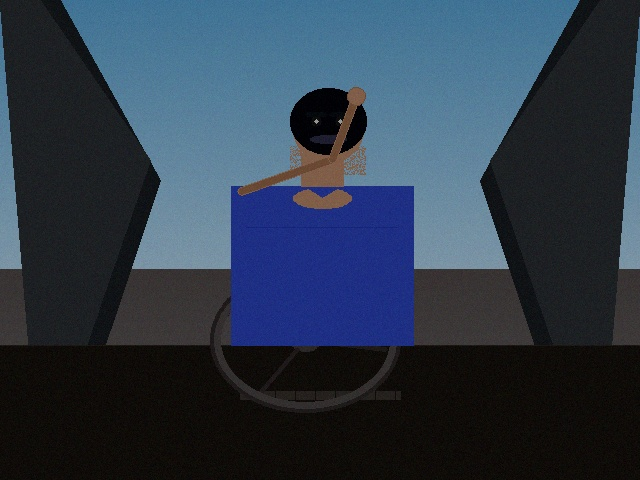hands_off_wheel: (331, 72, 381, 120)
